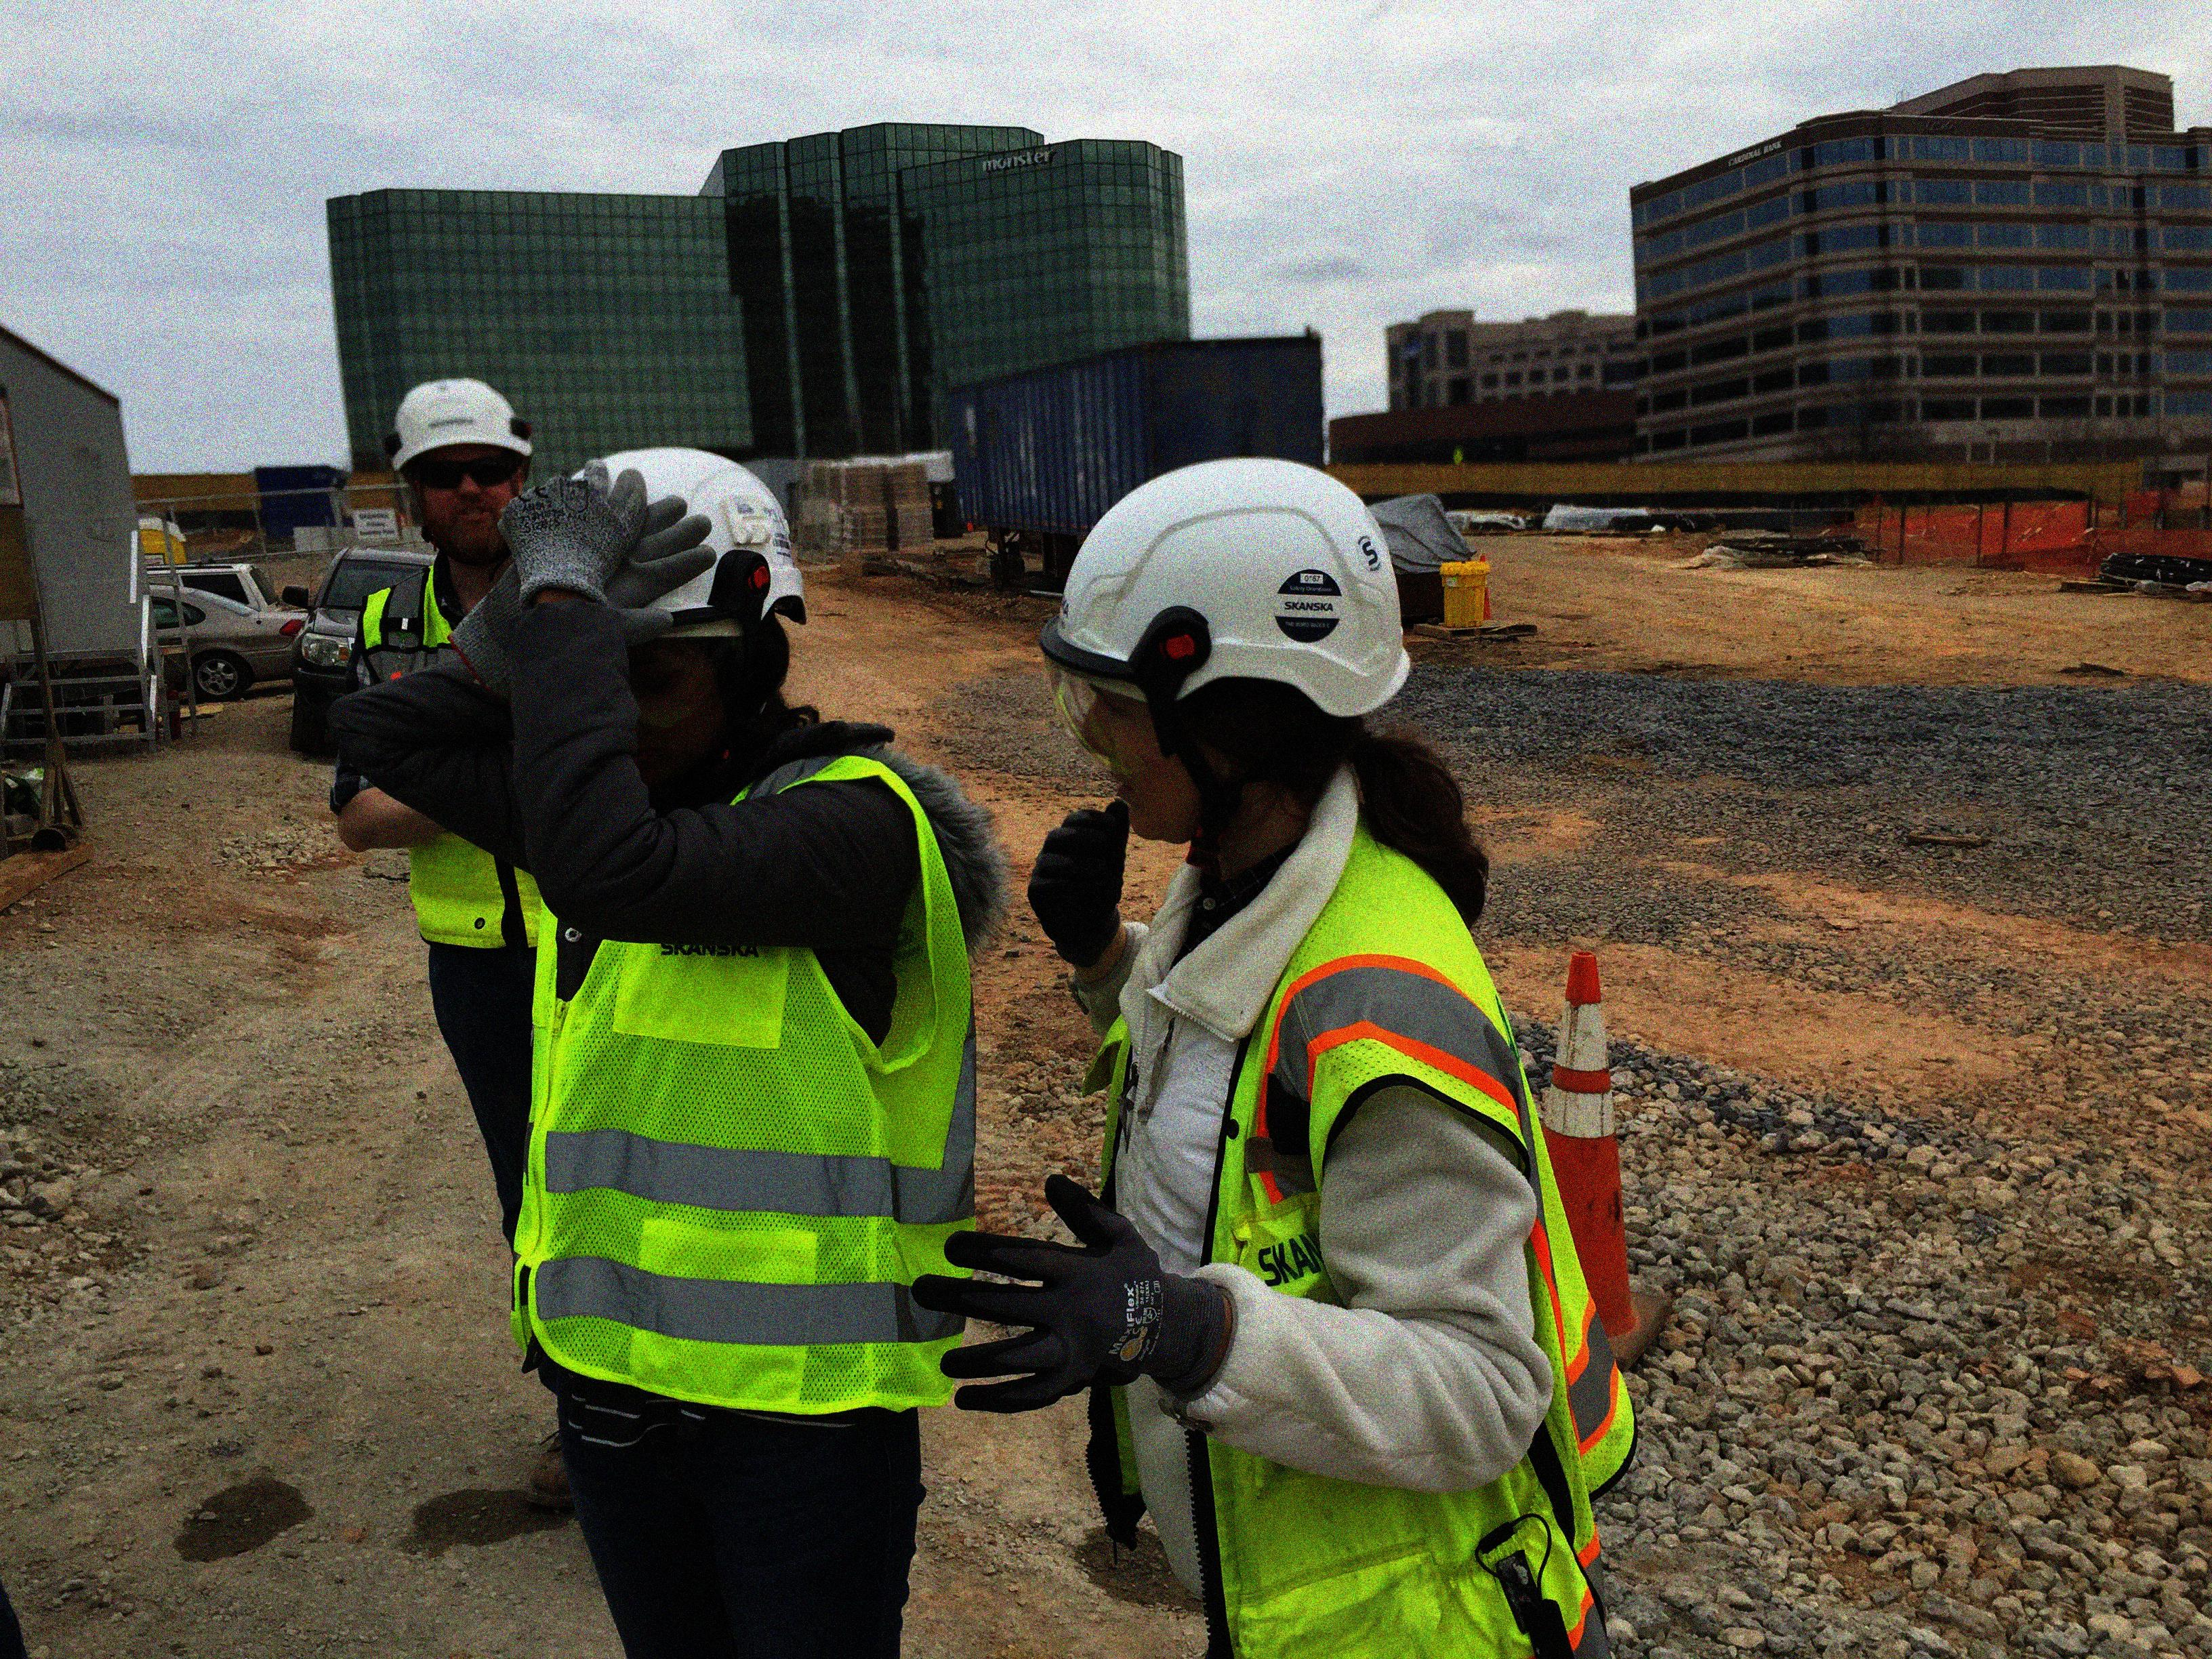helmet: (1035, 446, 1414, 847), (519, 436, 827, 793), (388, 376, 535, 573)
